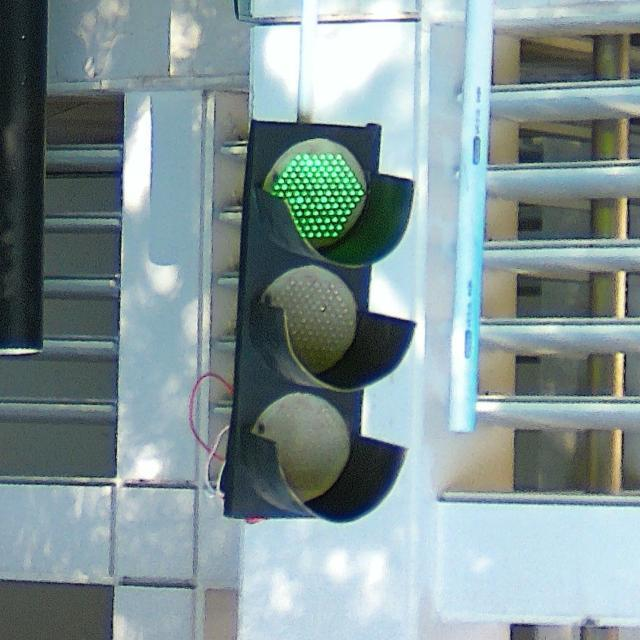green_light: (223, 113, 417, 524)
